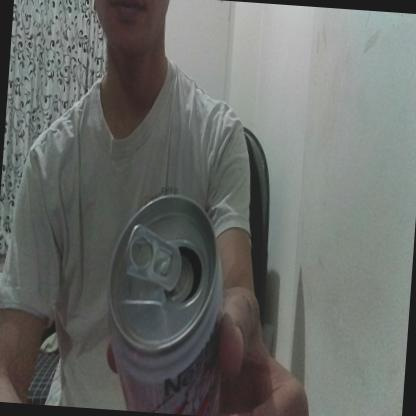alumunium_can: (101, 183, 232, 416)
